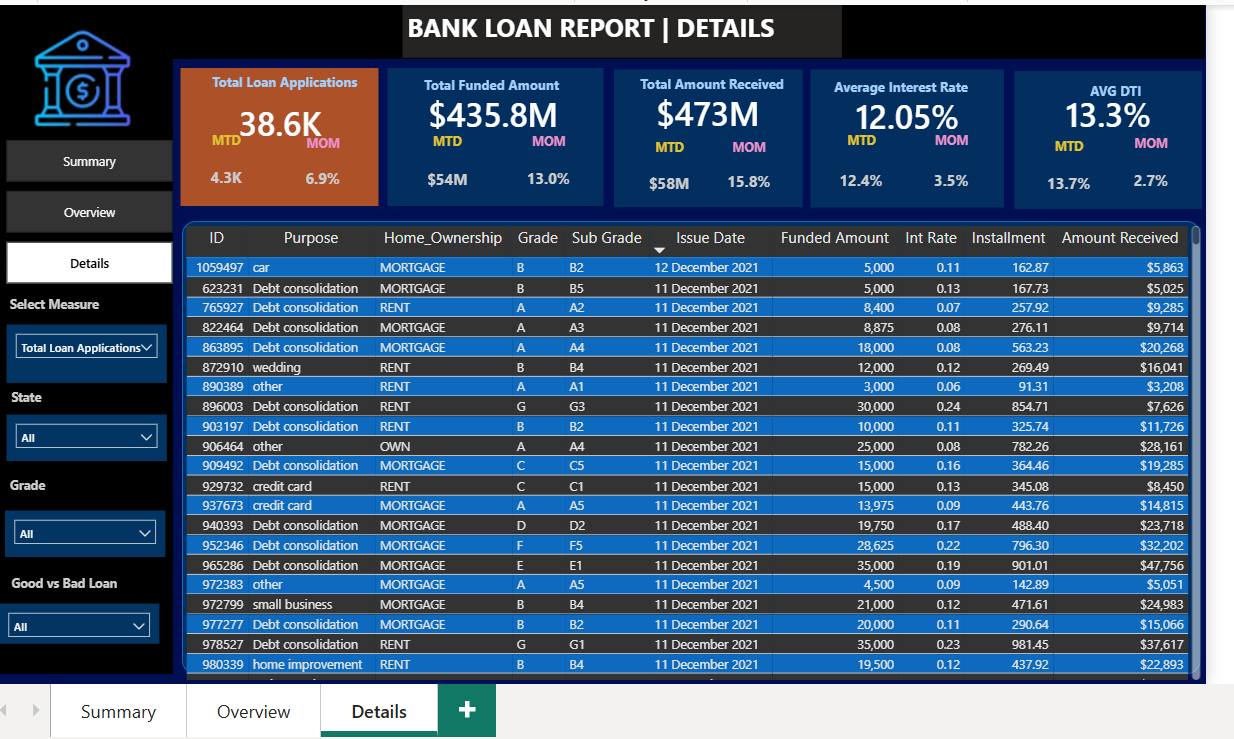

Layout of this report page (visuals, bound fields, positions):
{"tool":"powerbi","page":{"name":"Details","canvas":[1280,720],"ordinal":2},"visuals":[{"type":"shape","box":[0,55.7,184.5,653.7],"z":0},{"type":"shape","box":[412.1,66.8,229,146.3],"z":0,"group":"g1"},{"type":"shape","box":[651.9,68.4,200,146],"z":0,"group":"g2"},{"type":"shape","box":[861.5,68.4,205,146.3],"z":0,"group":"g4"},{"type":"shape","box":[1075.9,70,198.7,146.3],"z":0,"group":"g5"},{"type":"shape","box":[0,0,1278.9,57.3],"z":1000},{"type":"textbox","box":[207.7,67.1,189.3,38.2],"z":1000,"group":"g3"},{"type":"textbox","box":[660.6,69.1,189.3,28.6],"z":1000,"group":"g2"},{"type":"textbox","box":[422.2,69.7,198.8,31.8],"z":1000,"group":"g1"},{"type":"textbox","box":[869.4,71.6,176.1,35],"z":1000,"group":"g4"},{"type":"textbox","box":[1087.1,76.7,192.8,35],"z":1000,"group":"g5"},{"type":"cardVisual","fields":{"Data":["bank_loan_data.Total Amount Received"]},"box":[650.1,74.1,202,77.9],"z":2000,"group":"g2"},{"type":"cardVisual","fields":{"Data":["bank_loan_data.Average Interest Rate"]},"box":[861,74.1,205.2,82.7],"z":2000,"group":"g4"},{"type":"cardVisual","fields":{"Data":["bank_loan_data.DTI Ratio"]},"box":[1075.1,74.8,202,79.5],"z":2000,"group":"g5"},{"type":"cardVisual","fields":{"Data":["bank_loan_data.Total Funded Amount"]},"box":[419,79.3,208.4,70],"z":2000,"group":"g1"},{"type":"cardVisual","fields":{"Data":["bank_loan_data.Total Loan Applications"]},"box":[193.4,89.7,208.4,70],"z":2000,"group":"g3"},{"type":"shape","box":[194.1,229,1080,480.4],"z":2000},{"type":"textbox","box":[427.9,0,466,55.7],"z":3000},{"type":"cardVisual","title":"MTD","fields":{"Data":["bank_loan_data.MTD Average Interest Rate"]},"box":[862.6,133,105,82.7],"z":3000,"group":"g4"},{"type":"cardVisual","title":"MTD","fields":{"Data":["bank_loan_data.MTD Loan Applications"]},"box":[192.5,134.4,97,78],"z":3000,"group":"g3"},{"type":"cardVisual","title":"MTD","fields":{"Data":["bank_loan_data.MTD Funded Amount"]},"box":[411.6,135.2,127,77],"z":3000,"group":"g1"},{"type":"cardVisual","title":"MTD","fields":{"Data":["bank_loan_data.MTD Average DTI Ratio"]},"box":[1074.8,140.1,118.9,76.3],"z":3000,"group":"g5"},{"type":"cardVisual","title":"MTD","fields":{"Data":["bank_loan_data.MTD Amount Received"]},"box":[652.2,141.6,117.7,73.2],"z":3000,"group":"g2"},{"type":"group","id":"g1","title":"Group 1","box":[411.6,66.8,229.5,146.3],"z":4000},{"type":"cardVisual","title":"MOM","fields":{"Data":["bank_loan_data.MOM Average Interest Rate"]},"box":[954.9,133,111.3,82.7],"z":4000,"group":"g4"},{"type":"cardVisual","title":"MOM","fields":{"Data":["bank_loan_data.MOM Funded Amount"]},"box":[526.8,135.5,112.9,76.3],"z":4000,"group":"g1"},{"type":"cardVisual","title":"MOM","fields":{"Data":["bank_loan_data.MOM Average DTI Ratio"]},"box":[1166.7,137.3,108.1,76.3],"z":4000,"group":"g5"},{"type":"cardVisual","title":"MOM","fields":{"Data":["bank_loan_data.MOM Loan Applications"]},"box":[284.7,137.8,117.7,73],"z":4000,"group":"g3"},{"type":"cardVisual","title":"MOM","fields":{"Data":["bank_loan_data.MOM Amount Received"]},"box":[739.7,141.6,111.3,70],"z":4000,"group":"g2"},{"type":"group","id":"g2","title":"Group 1","box":[650.1,68.4,202,146.4],"z":5000},{"type":"group","id":"g3","title":"Group 1","box":[192.5,67.1,209.9,145.3],"z":6000},{"type":"group","id":"g4","title":"Group 1","box":[861,68.4,205.5,147.3],"z":7000},{"type":"group","id":"g5","title":"Group 1","box":[1074.8,70,205.1,146.4],"z":8000},{"type":"slicer","fields":{"Values":["bank_loan_data.address_state"]},"box":[8,434.2,170.2,49.3],"z":9000},{"type":"textbox","box":[8,400.8,85.9,36.6],"z":10000},{"type":"slicer","fields":{"Values":["bank_loan_data.grade"]},"box":[6.4,536,170.2,49.3],"z":11000},{"type":"textbox","box":[6.4,494.7,85.9,36.6],"z":12000},{"type":"slicer","fields":{"Values":["bank_loan_data.Good  vs Bad Loan"]},"box":[0,634.7,170.2,42.9],"z":13000},{"type":"textbox","box":[8,598.1,144.7,36.6],"z":14000},{"type":"slicer","fields":{"Values":["Select Measure.Select Measure"]},"box":[8,338.8,170.2,62],"z":15000},{"type":"textbox","box":[6.4,302.2,127.2,36.6],"z":16000},{"type":"tableEx","fields":{"Values":["bank_loan_data.id","bank_loan_data.purpose","bank_loan_data.home_ownership","bank_loan_data.grade","bank_loan_data.sub_grade","bank_loan_data.issue_date","bank_loan_data.Total Funded Amount","Sum(bank_loan_data.int_rate)","Sum(bank_loan_data.installment)","bank_loan_data.Total Amount Received"]},"box":[192.5,229,1086.4,491.5],"z":17000},{"type":"pageNavigator","box":[8,143.2,176.6,154.3],"z":18000},{"type":"image","box":[8,8,170.2,149.5],"z":19000}]}

Visuals, with their boxes on the page's 1280x720 design canvas (x1, y1, x2, y2). These are canvas units, not pixel positions in the 1234x739 screenshot, which may show the page scaled, cropped or inside an application window:
shape: 0, 56, 184, 709
shape: 412, 67, 641, 213
shape: 652, 68, 852, 214
shape: 862, 68, 1066, 215
shape: 1076, 70, 1275, 216
shape: 0, 0, 1279, 57
textbox: 208, 67, 397, 105
textbox: 661, 69, 850, 98
textbox: 422, 70, 621, 102
textbox: 869, 72, 1046, 107
textbox: 1087, 77, 1280, 112
cardVisual - bank_loan_data.Total Amount Received: 650, 74, 852, 152
cardVisual - bank_loan_data.Average Interest Rate: 861, 74, 1066, 157
cardVisual - bank_loan_data.DTI Ratio: 1075, 75, 1277, 154
cardVisual - bank_loan_data.Total Funded Amount: 419, 79, 627, 149
cardVisual - bank_loan_data.Total Loan Applications: 193, 90, 402, 160
shape: 194, 229, 1274, 709
textbox: 428, 0, 894, 56
"MTD" cardVisual: 863, 133, 968, 216
"MTD" cardVisual: 192, 134, 290, 212
"MTD" cardVisual: 412, 135, 539, 212
"MTD" cardVisual: 1075, 140, 1194, 216
"MTD" cardVisual: 652, 142, 770, 215
"Group 1" group: 412, 67, 641, 213
"MOM" cardVisual: 955, 133, 1066, 216
"MOM" cardVisual: 527, 136, 640, 212
"MOM" cardVisual: 1167, 137, 1275, 214
"MOM" cardVisual: 285, 138, 402, 211
"MOM" cardVisual: 740, 142, 851, 212
"Group 1" group: 650, 68, 852, 215
"Group 1" group: 192, 67, 402, 212
"Group 1" group: 861, 68, 1066, 216
"Group 1" group: 1075, 70, 1280, 216
slicer - bank_loan_data.address_state: 8, 434, 178, 484
textbox: 8, 401, 94, 437
slicer - bank_loan_data.grade: 6, 536, 177, 585
textbox: 6, 495, 92, 531
slicer - bank_loan_data.Good  vs Bad Loan: 0, 635, 170, 678
textbox: 8, 598, 153, 635
slicer - Select Measure.Select Measure: 8, 339, 178, 401
textbox: 6, 302, 134, 339
tableEx - bank_loan_data.id x bank_loan_data.purpose: 192, 229, 1279, 720
pageNavigator: 8, 143, 185, 298
image: 8, 8, 178, 158
